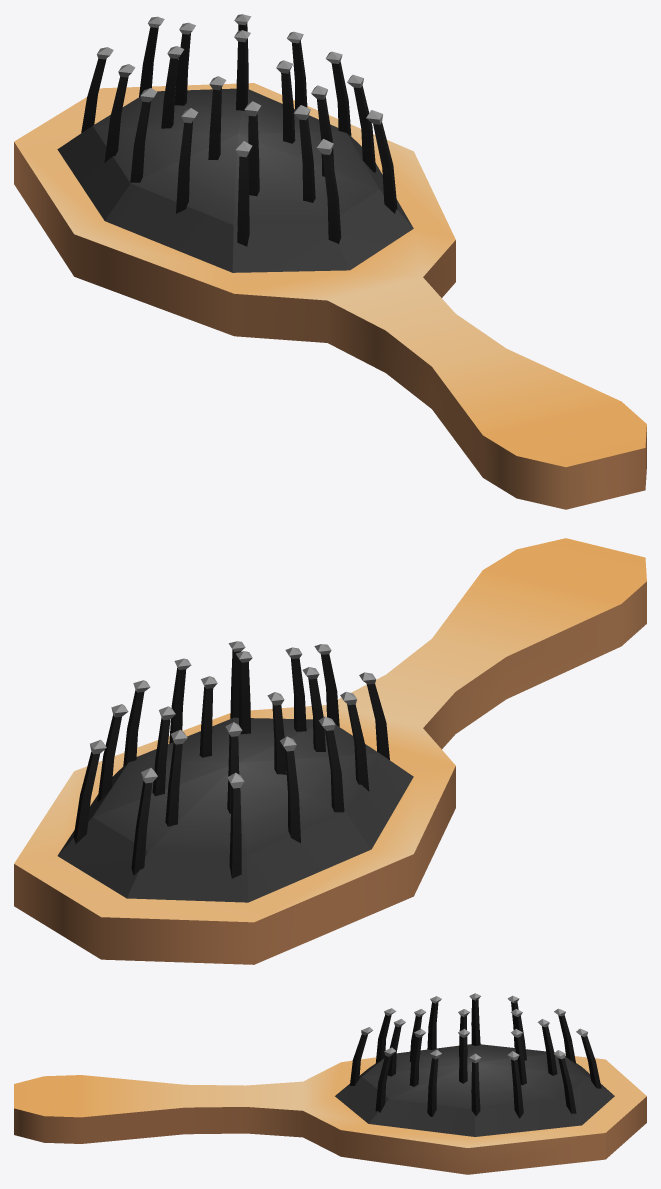
Rendered from CR_Comb_001.FBX.
The picture shows the model from 3 angles, top to bottom: view 1: azimuth 30°, elevation 25°; view 2: azimuth 150°, elevation 25°; view 3: azimuth 270°, elevation 25°; orthographic projection. The views are drawn at different scales.
Visible parts, largest first — view 1: CR_Comb_001; view 2: CR_Comb_001; view 3: CR_Comb_001.
Part boxes in pixels (<box>): CR_Comb_001: <box>14,14,646,509</box>; CR_Comb_001: <box>14,538,646,964</box>; CR_Comb_001: <box>14,993,646,1174</box>.
Bounding box in the file's own units: 7.08 × 3.35 × 18.22.
Materials: 1 (1 with a texture image).
